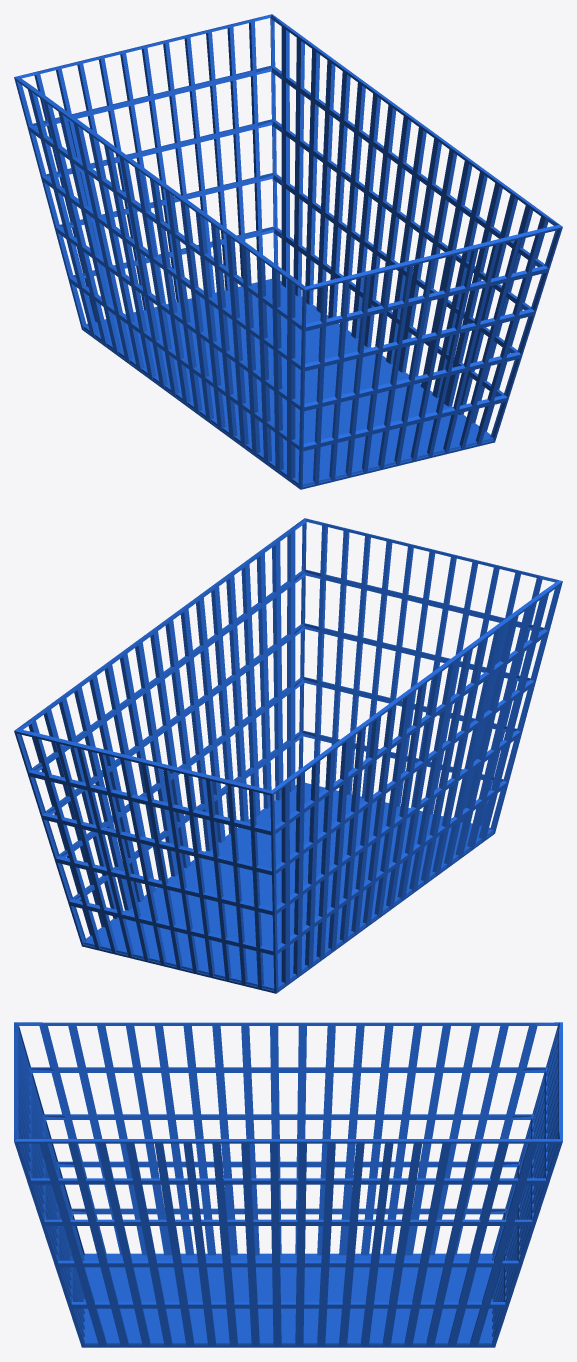
Rendered from ShoppingBasket.fbx.
3 renders of one model, top to bottom at view 1: azimuth 30°, elevation 25°; view 2: azimuth 150°, elevation 25°; view 3: azimuth 270°, elevation 25°, orthographic. The views are drawn at different scales.
Parts seen in each view (by area): view 1: Cube; view 2: Cube; view 3: Cube.
Part boxes in pixels (x1,y1,x2,y2): Cube: (14,14,562,489); Cube: (14,518,562,993); Cube: (14,1022,562,1347).
Bounding box in the file's own units: 21.8 × 19 × 42.5.
